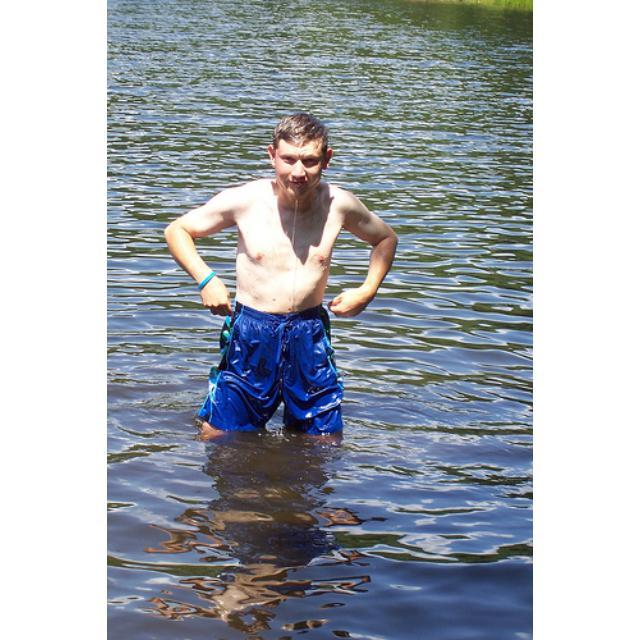human: (163, 105, 399, 453)
